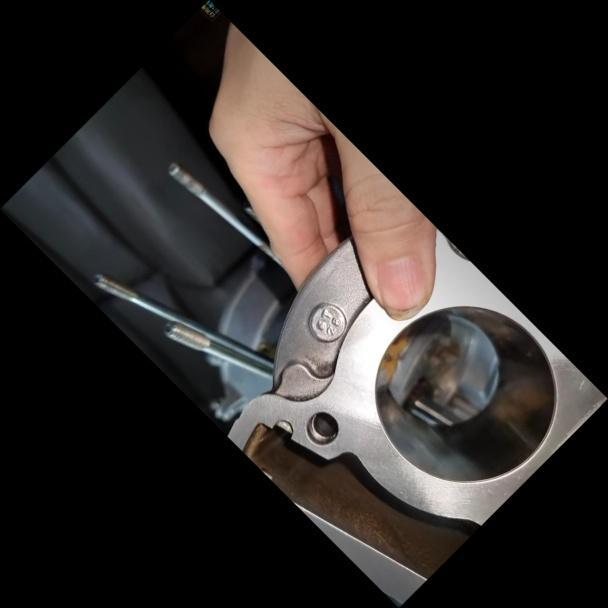hole: (296, 404, 346, 454)
